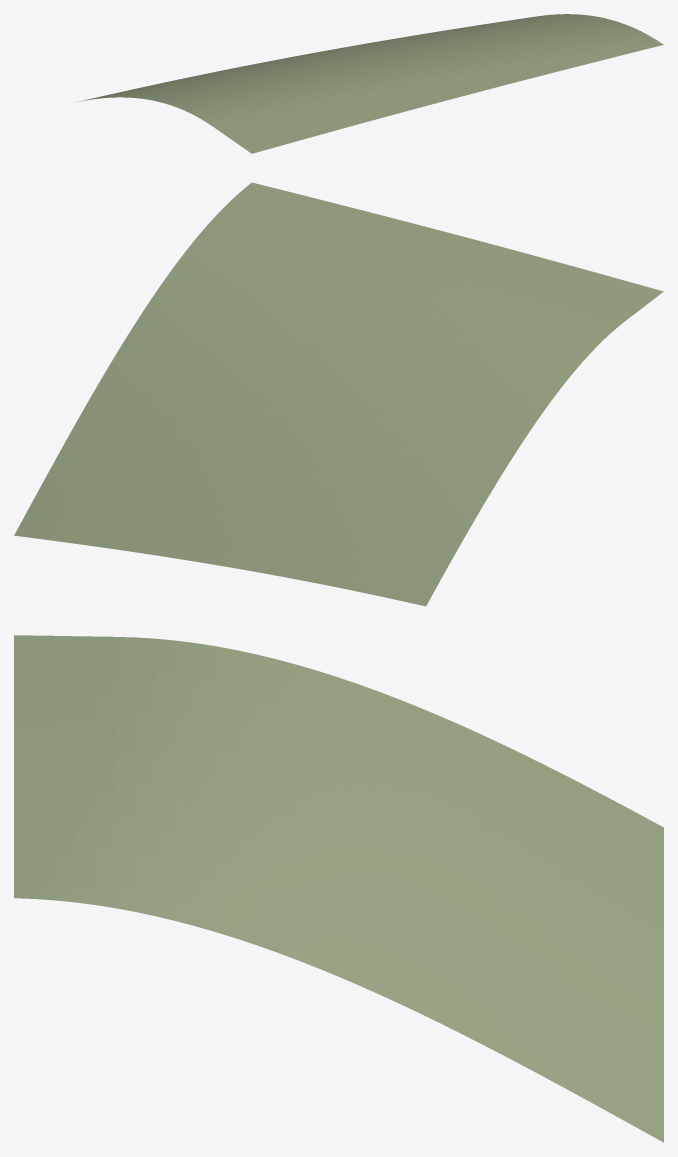
Rendered from expanse-19-2.glb.
The picture shows the model from 3 angles, top to bottom: view 1: azimuth 30°, elevation 25°; view 2: azimuth 150°, elevation 25°; view 3: azimuth 270°, elevation 25°; orthographic projection. The views are drawn at different scales.
Visible parts, largest first — view 1: expanse-19-2; view 2: expanse-19-2; view 3: expanse-19-2.
Part boxes in pixels (bbox=[...]): expanse-19-2: bbox=[76, 14, 663, 153]; expanse-19-2: bbox=[14, 182, 663, 606]; expanse-19-2: bbox=[14, 635, 663, 1142].
Size of the model in its own units: 256 by 106 by 256.
